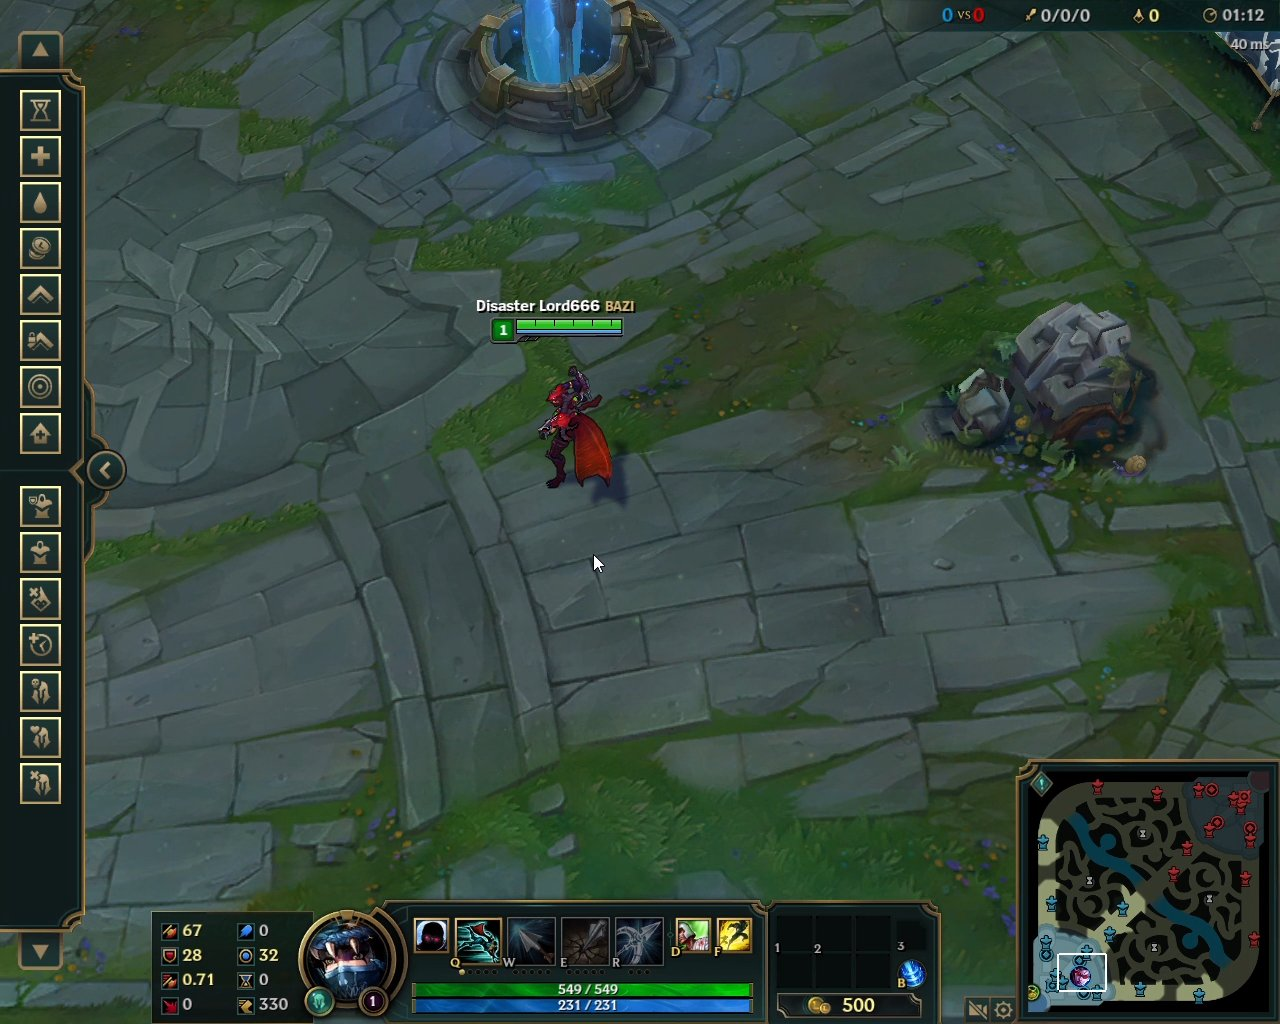Vayne: (535, 360, 624, 494)
